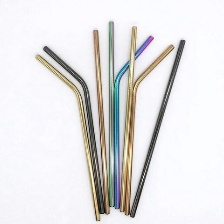drinking_straw: (30, 50, 104, 224), (126, 36, 193, 220), (104, 16, 118, 209)
